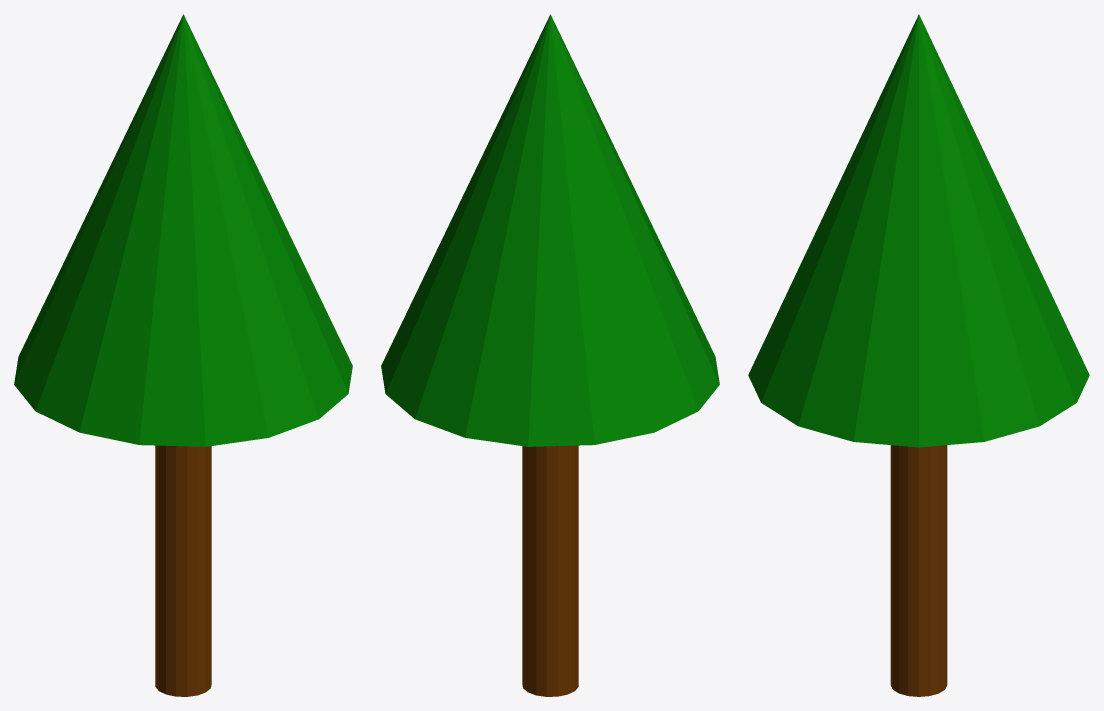
The model's file is tree2.fbx.
3 renders of one model, left to right at view 1: azimuth 30°, elevation 25°; view 2: azimuth 150°, elevation 25°; view 3: azimuth 270°, elevation 25°, orthographic.
Visible parts, largest first — view 1: Tree2; view 2: Tree2; view 3: Tree2.
Part boxes in pixels (x1,y1,x2,y2): Tree2: (14,14,352,696); Tree2: (381,14,719,696); Tree2: (748,14,1089,696).
Bounding box in the file's own units: 600 × 1300 × 600.
